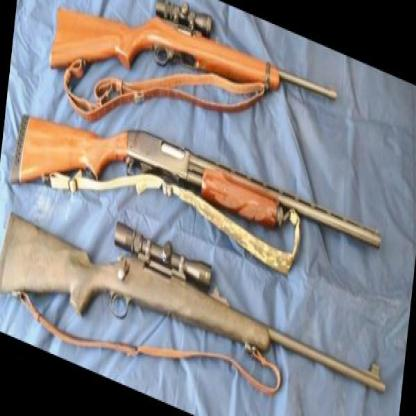rifle: (5, 72, 387, 330), (0, 169, 390, 416), (49, 0, 341, 192)
